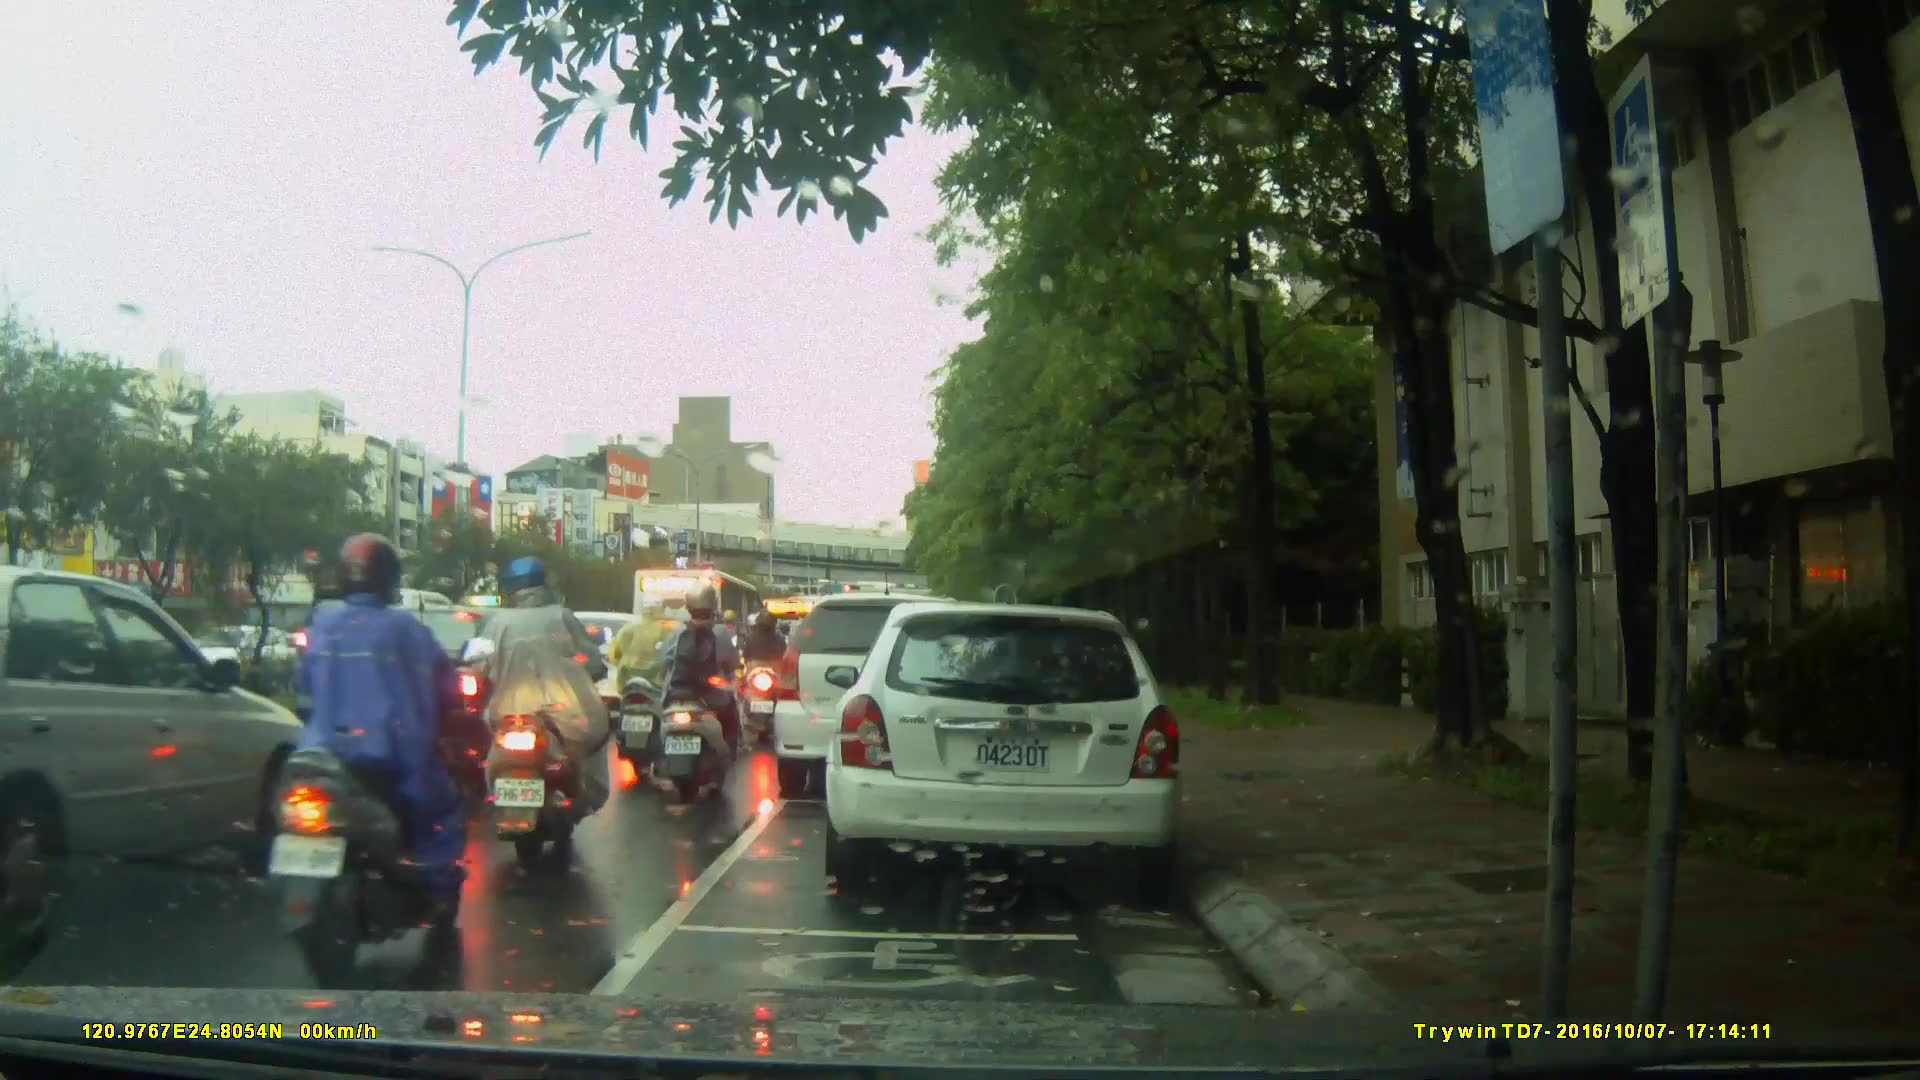rider: (266, 528, 462, 960), (467, 551, 600, 867), (654, 586, 741, 803), (612, 601, 686, 772), (738, 612, 793, 743)
vehicle: (4, 566, 313, 957), (831, 592, 1196, 897), (768, 592, 999, 802), (302, 604, 541, 775), (628, 566, 766, 701), (509, 610, 649, 722)
